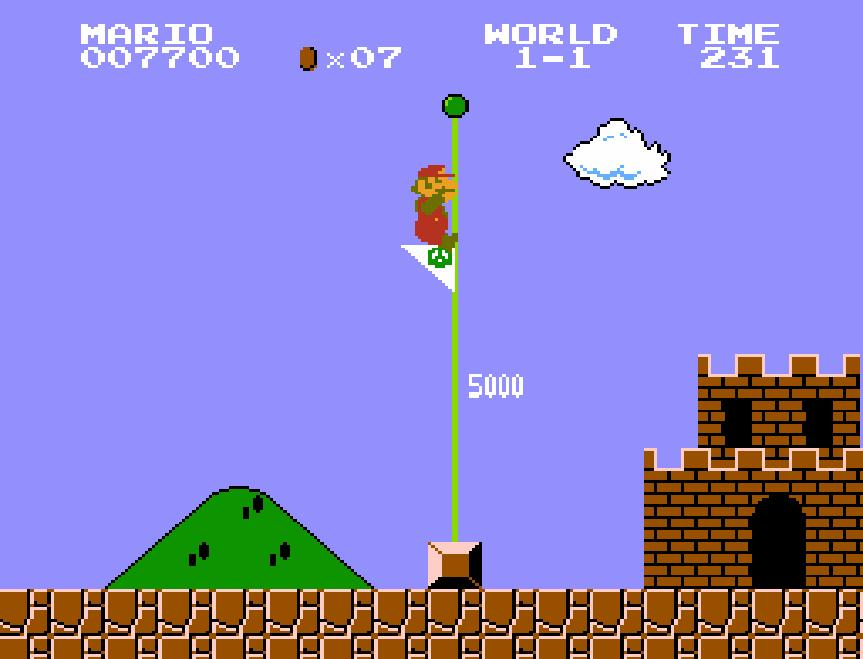big_mario: (402, 156, 461, 254)
